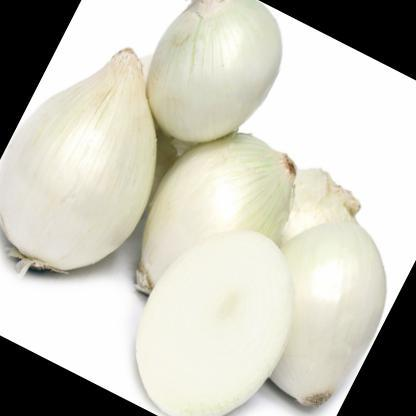onion: (0, 8, 214, 307), (104, 187, 334, 415), (116, 0, 307, 167)
